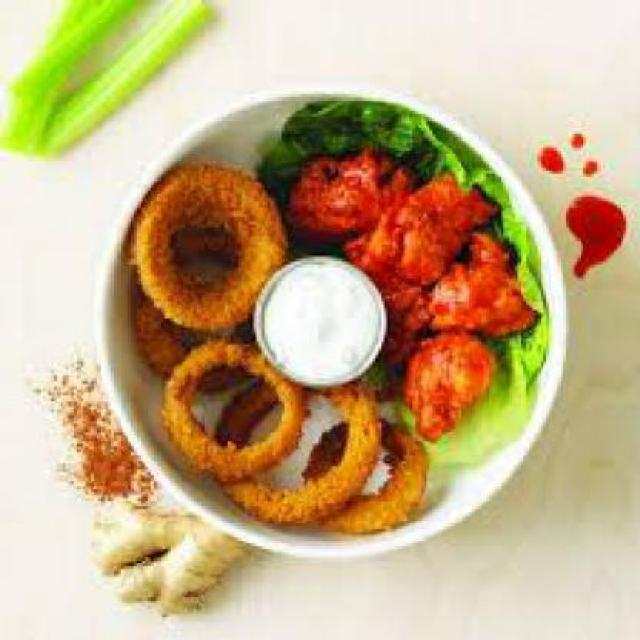chicken wings: (285, 142, 532, 430)
onion rings: (94, 142, 438, 541)
